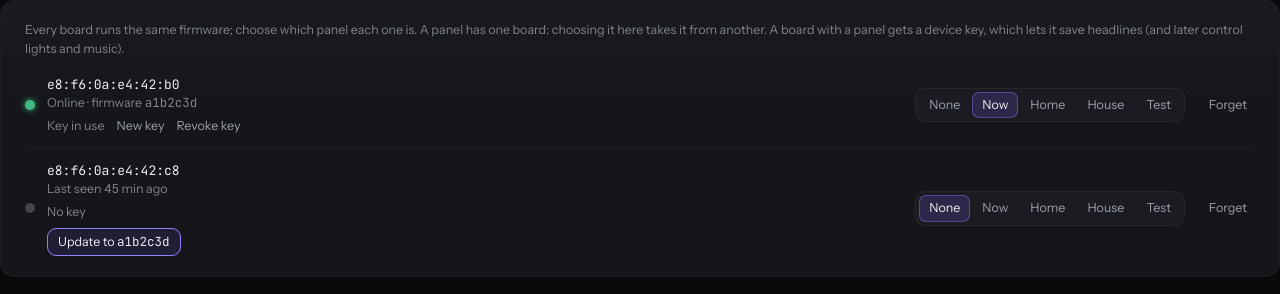
it: DeskBoardsEditor › offers an update to a board on other firmware, and says when it is asked
Click the button "Update to a1b2c3d" at point(114, 242), box [47, 228, 181, 256]
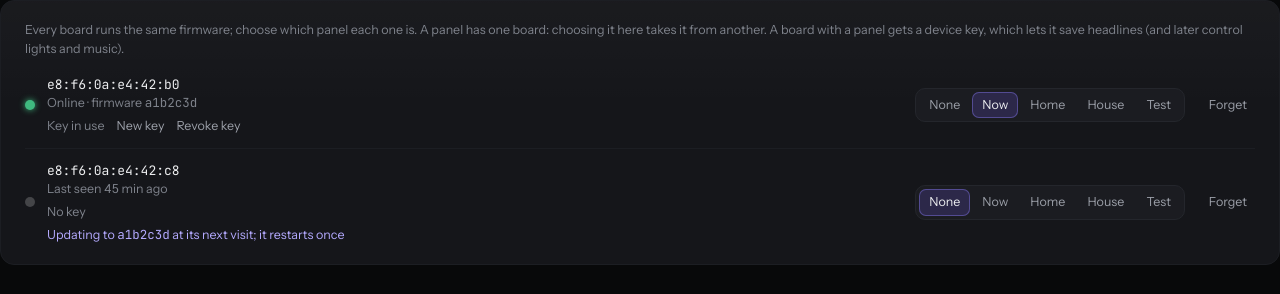
Result: the message shows "Updating to a1b2c3d at its next visit" at [47, 226, 344, 244]
Result: the button "Update to" is gone
